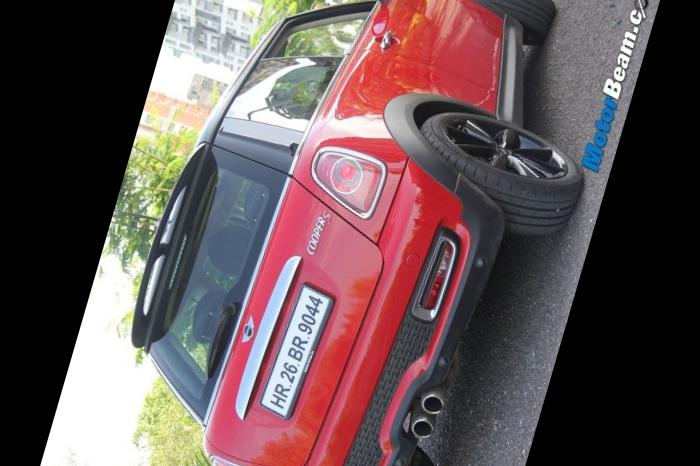plate: (247, 252, 363, 426)
